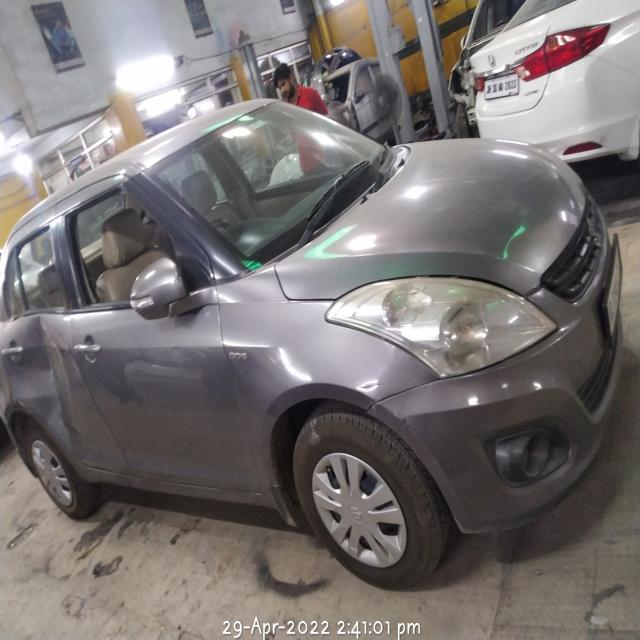damage: (5, 325, 87, 453)
